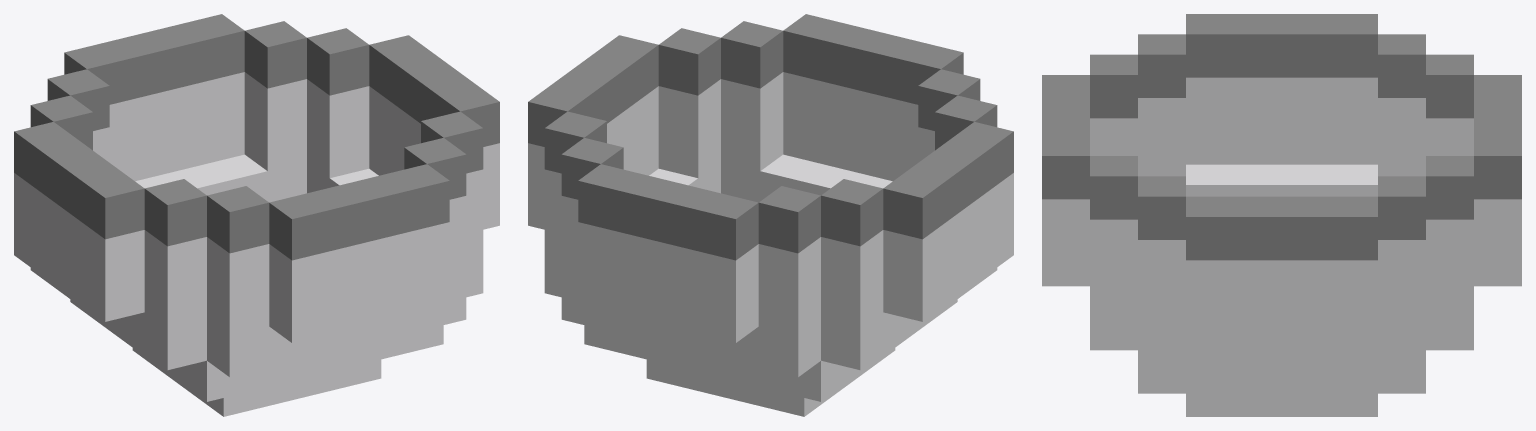
The model's file is Medieval Assets-238-Decoration - Table - Bowl.obj.
3 views of the same model, side by side, from view 1: azimuth 30°, elevation 25°; view 2: azimuth 150°, elevation 25°; view 3: azimuth 270°, elevation 25° (orthographic). The views are drawn at different scales.
Visible parts, largest first — view 1: Decoration - Table - Bowl; view 2: Decoration - Table - Bowl; view 3: Decoration - Table - Bowl.
Part boxes in pixels (x1=…): Decoration - Table - Bowl: x1=14, y1=14, x2=499, y2=416; Decoration - Table - Bowl: x1=528, y1=14, x2=1013, y2=416; Decoration - Table - Bowl: x1=1042, y1=14, x2=1521, y2=416.
Size of the model in its own units: 1 by 0.6 by 1.
1 material, 1 textured.
